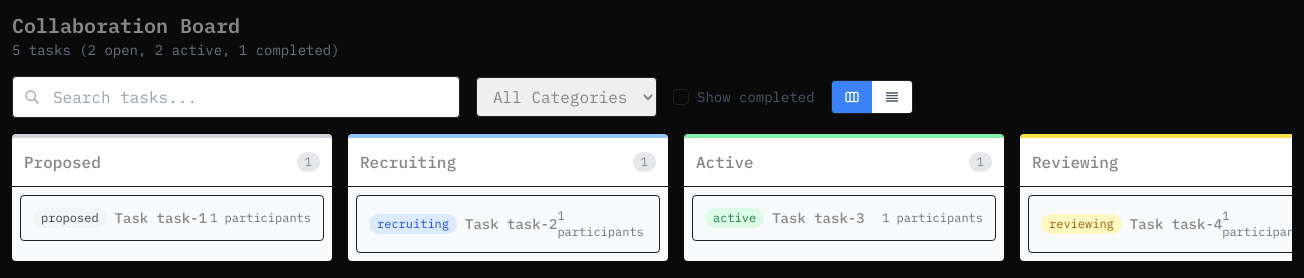
CollaborationBoard › Filtering › should filter by search query
This screenshot has width=1304, height=278.
Type "task-1" into the field with placeholder "Search tasks..." at (236, 97), box x1=12 y1=76 x2=460 y2=118
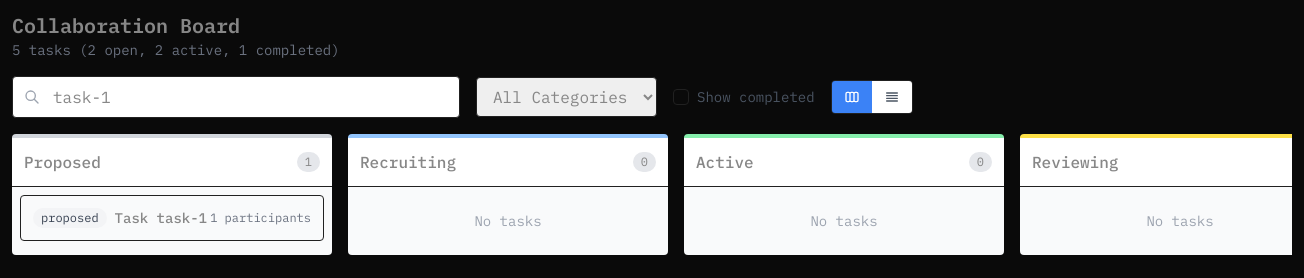
Expected: the heading "Task task-1" is shown, x1=115 y1=208 x2=207 y2=228
Result: the button "Task task-2" is gone
